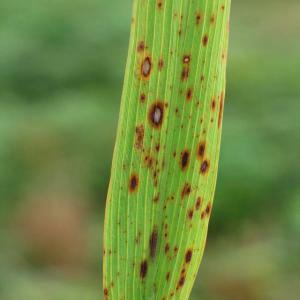0 BrownSpot: (146, 221, 162, 262), (214, 85, 227, 135), (145, 101, 166, 131), (123, 169, 143, 199), (138, 53, 154, 83), (177, 179, 196, 203), (132, 123, 147, 153), (136, 256, 151, 285), (178, 147, 191, 175), (193, 138, 208, 162), (174, 273, 189, 292), (199, 30, 212, 51), (198, 157, 211, 178), (182, 246, 195, 267), (202, 199, 215, 217), (185, 85, 195, 104), (184, 207, 196, 222), (193, 195, 203, 213), (163, 269, 174, 284), (207, 11, 217, 27), (181, 52, 192, 66), (209, 97, 218, 114), (193, 13, 203, 28), (162, 242, 172, 257), (100, 285, 112, 297), (152, 176, 161, 192), (151, 191, 161, 205), (156, 57, 165, 72), (198, 209, 207, 224), (175, 25, 184, 39), (149, 286, 163, 295), (178, 265, 190, 275), (160, 156, 167, 173), (136, 40, 145, 53), (146, 157, 154, 171), (138, 92, 147, 104), (131, 237, 143, 246), (150, 167, 159, 179), (197, 73, 207, 83), (155, 1, 164, 11), (218, 2, 227, 12), (153, 143, 162, 153), (161, 221, 170, 231), (161, 231, 171, 240), (105, 197, 115, 206), (100, 248, 108, 259), (169, 289, 177, 300), (197, 117, 206, 126), (200, 127, 209, 136), (114, 269, 123, 278), (171, 245, 181, 253), (129, 15, 137, 25), (129, 160, 137, 170), (139, 145, 147, 155), (212, 71, 220, 81), (168, 48, 175, 59), (171, 149, 178, 160), (163, 99, 170, 110), (219, 53, 227, 62), (168, 193, 176, 202), (161, 203, 169, 212), (162, 214, 171, 222), (171, 252, 180, 260), (167, 83, 175, 92), (118, 184, 126, 193), (136, 230, 144, 239), (101, 294, 113, 300), (153, 156, 159, 168), (187, 111, 195, 120), (173, 105, 180, 115), (125, 269, 132, 279), (109, 279, 116, 289), (175, 211, 182, 221), (195, 244, 202, 254), (123, 239, 131, 247), (200, 58, 207, 67), (195, 99, 202, 108), (107, 248, 114, 257), (178, 87, 184, 97), (159, 295, 171, 300), (178, 13, 185, 21), (209, 117, 216, 125), (188, 222, 195, 230), (148, 133, 155, 141), (121, 163, 128, 171), (192, 272, 199, 280), (143, 153, 149, 162), (162, 142, 168, 151), (172, 12, 179, 19), (131, 262, 138, 269), (154, 267, 161, 274), (151, 281, 158, 288), (190, 123, 197, 130), (179, 123, 185, 131), (117, 220, 123, 227), (129, 221, 135, 227)
